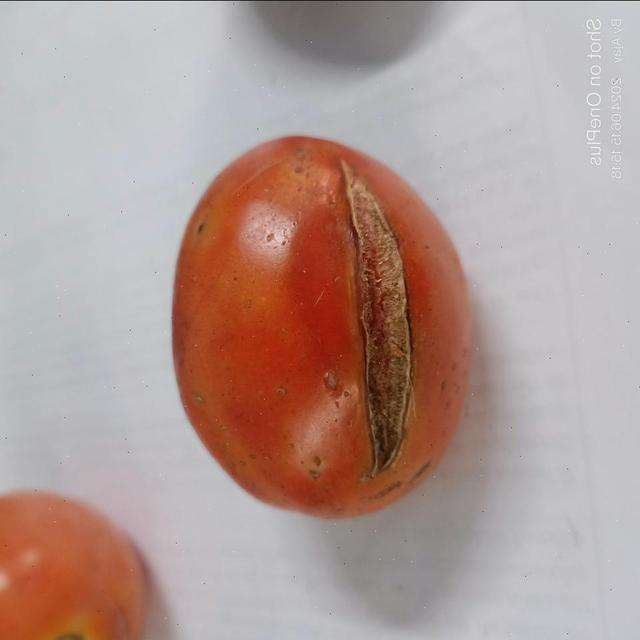Cracking Fruit: (146, 189, 402, 328)
